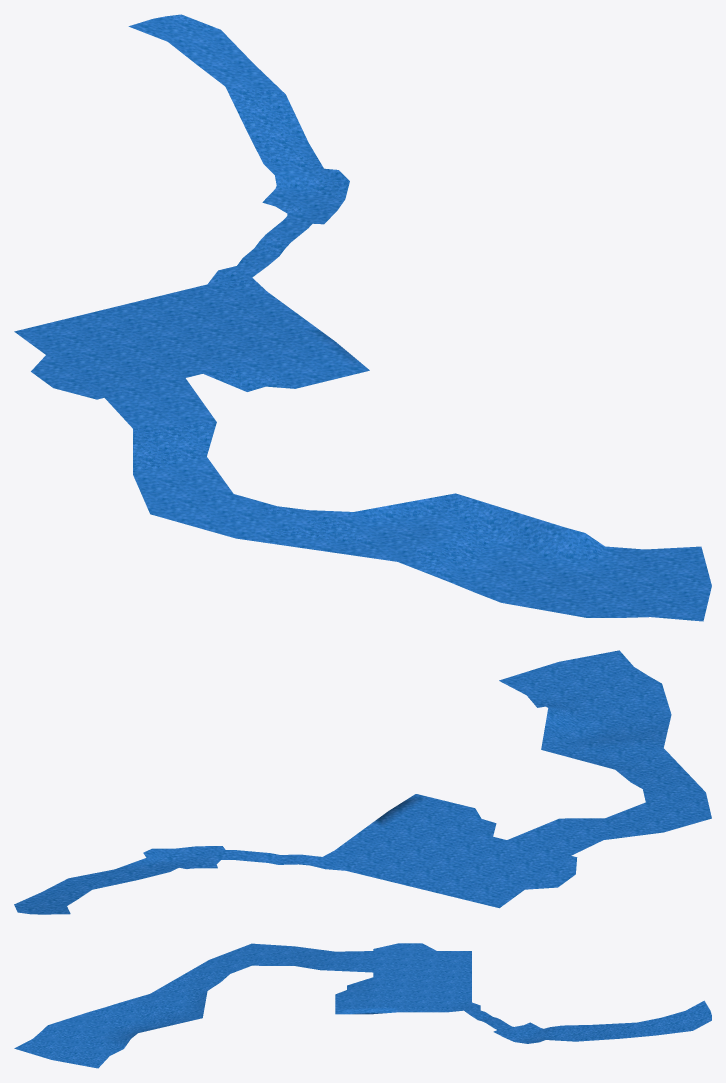
The model's file is River.fbx.
3 views of the same model, one above another, from view 1: azimuth 30°, elevation 25°; view 2: azimuth 150°, elevation 25°; view 3: azimuth 270°, elevation 25° (orthographic). The views are drawn at different scales.
Visible parts, largest first — view 1: Plane.004; view 2: Plane.004; view 3: Plane.004.
Boxes of the visible parts, x1,y1,x2,y2 form: Plane.004: [14, 14, 711, 621]; Plane.004: [14, 650, 711, 914]; Plane.004: [14, 943, 711, 1068].
Size of the model in its own units: 63246 by 14830 by 147530.
